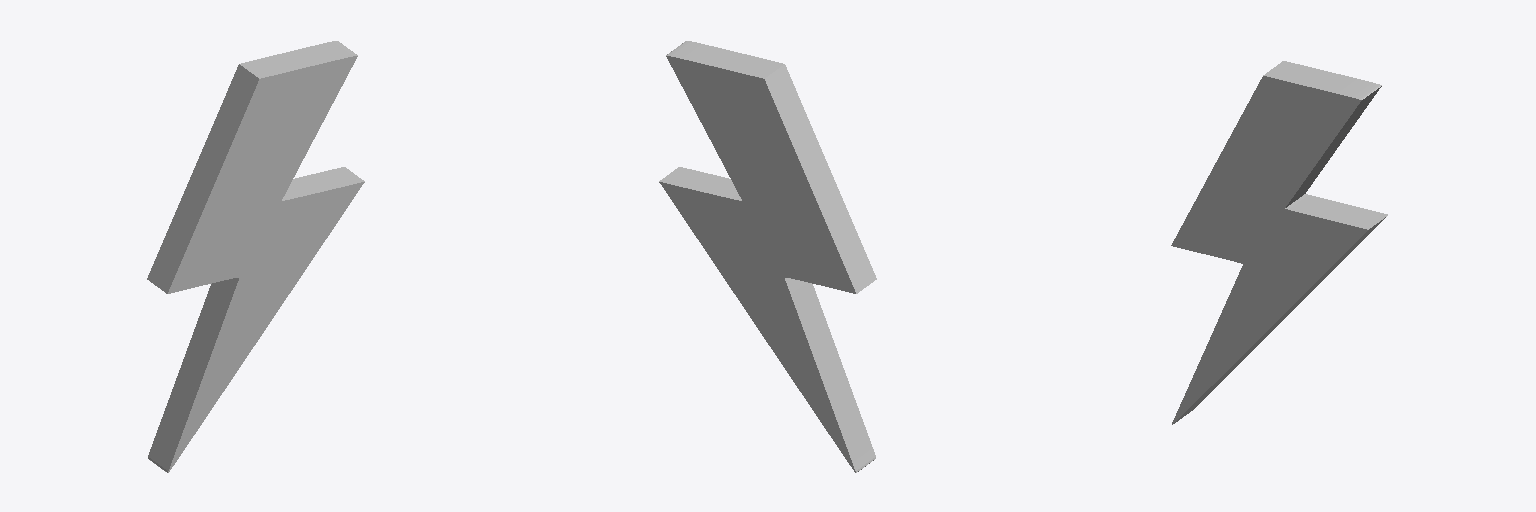
Rendered from icon_energy_extrude.obj.
3 renders of one model, left to right at view 1: azimuth 30°, elevation 25°; view 2: azimuth 150°, elevation 25°; view 3: azimuth 330°, elevation 25°, orthographic.
Parts seen in each view (by area): view 1: OpenSCAD_Model; view 2: OpenSCAD_Model; view 3: OpenSCAD_Model.
Boxes of the visible parts, x1,y1,x2,y2 form: OpenSCAD_Model: [147, 41, 364, 472]; OpenSCAD_Model: [659, 41, 876, 472]; OpenSCAD_Model: [1171, 61, 1387, 424].
Bounding box in the file's own units: 55.51 × 99.96 × 10.